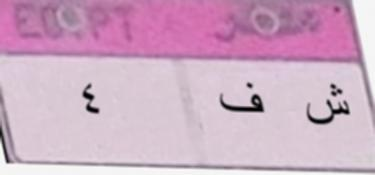4: (75, 76, 107, 116)
faa: (213, 79, 268, 124)
sheen: (301, 83, 353, 130)
